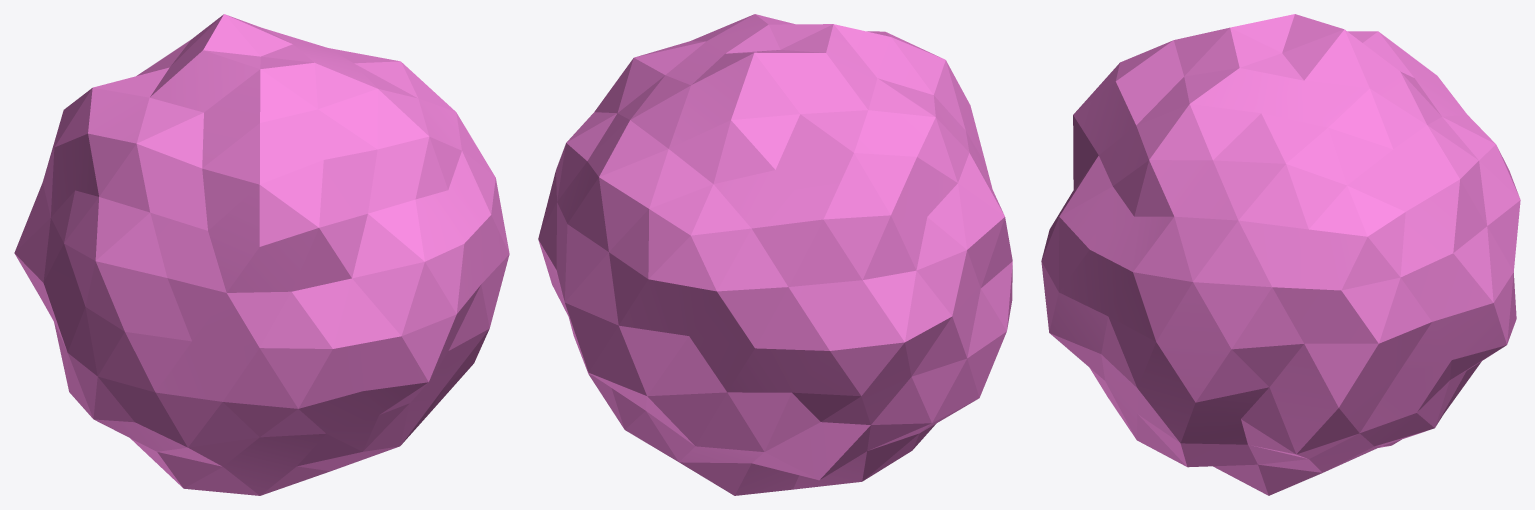
The model's file is Mountain_Boulder.fbx.
3 views of the same model, side by side, from view 1: azimuth 30°, elevation 25°; view 2: azimuth 150°, elevation 25°; view 3: azimuth 270°, elevation 25° (orthographic).
Visible parts, largest first — view 1: Boulder; view 2: Boulder; view 3: Boulder.
Part boxes in pixels (x1,y1,x2,y2): Boulder: (14, 14, 509, 495); Boulder: (538, 14, 1012, 495); Boulder: (1041, 14, 1520, 495).
Size of the model in its own units: 5.92 by 6.26 by 6.21.
Materials: 1 (1 with a texture image).
